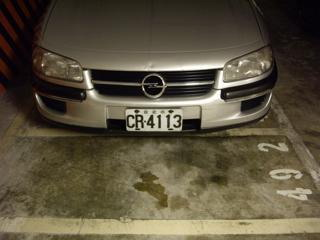plate: (122, 107, 184, 133)
